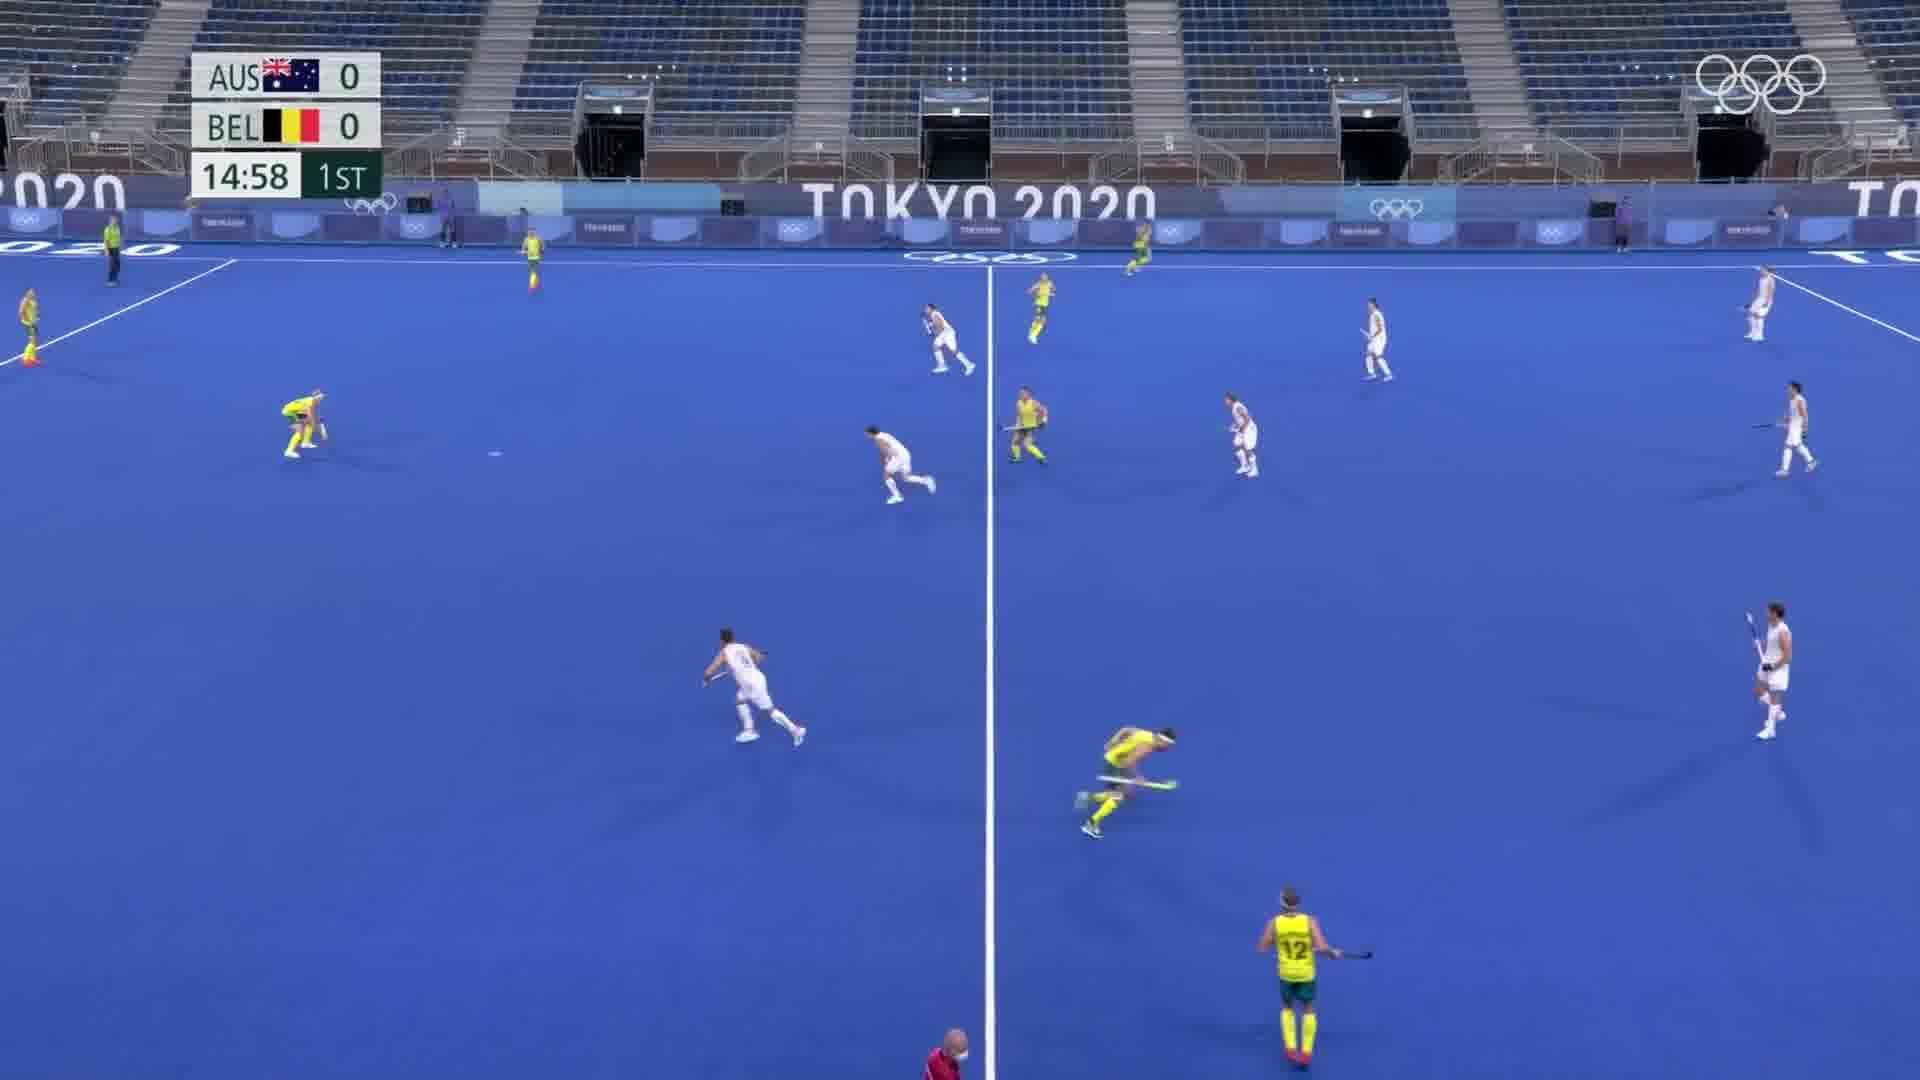ball: (483, 444, 510, 459)
